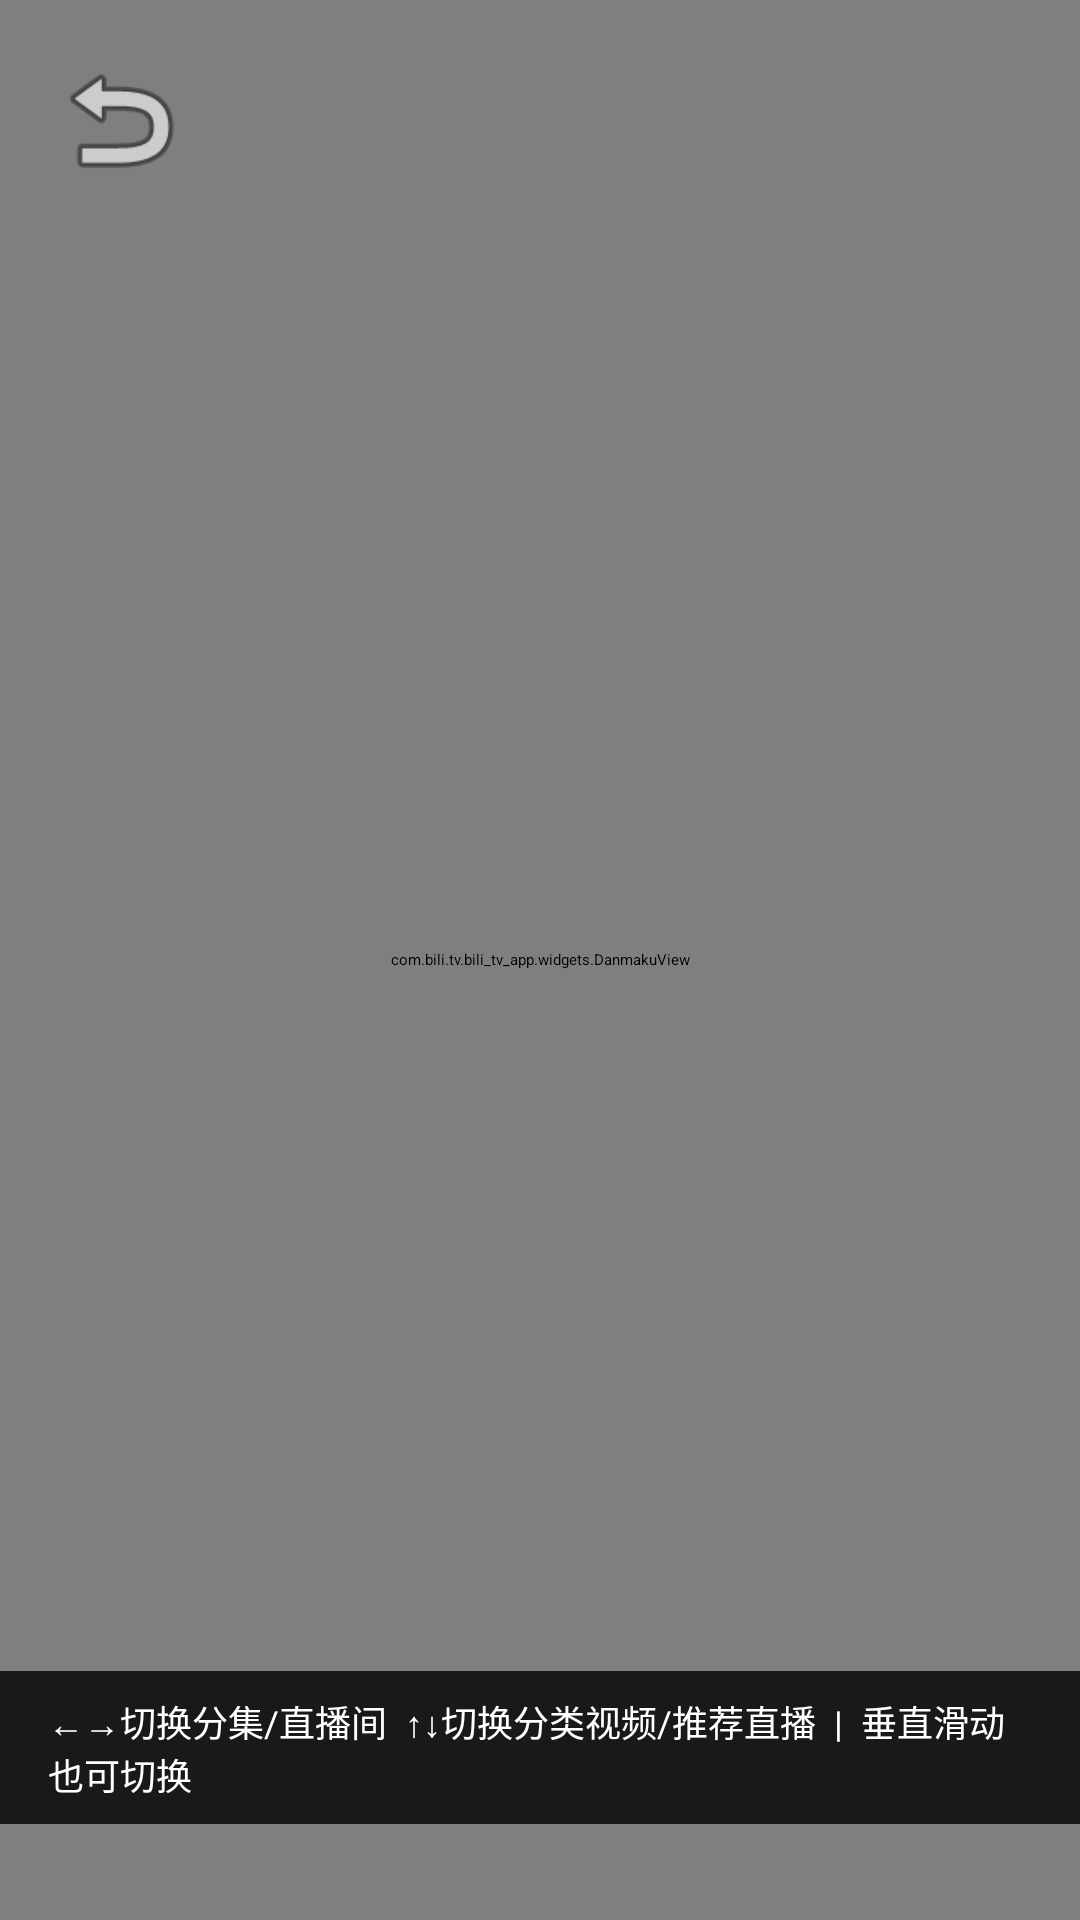

Icons on this 1080w x 1920h Android screen, each with the point to tap as [x,y]:
返回: [121,121]
